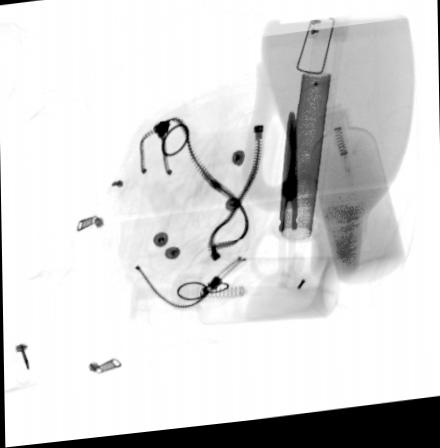Scissors: (247, 114, 322, 296)
